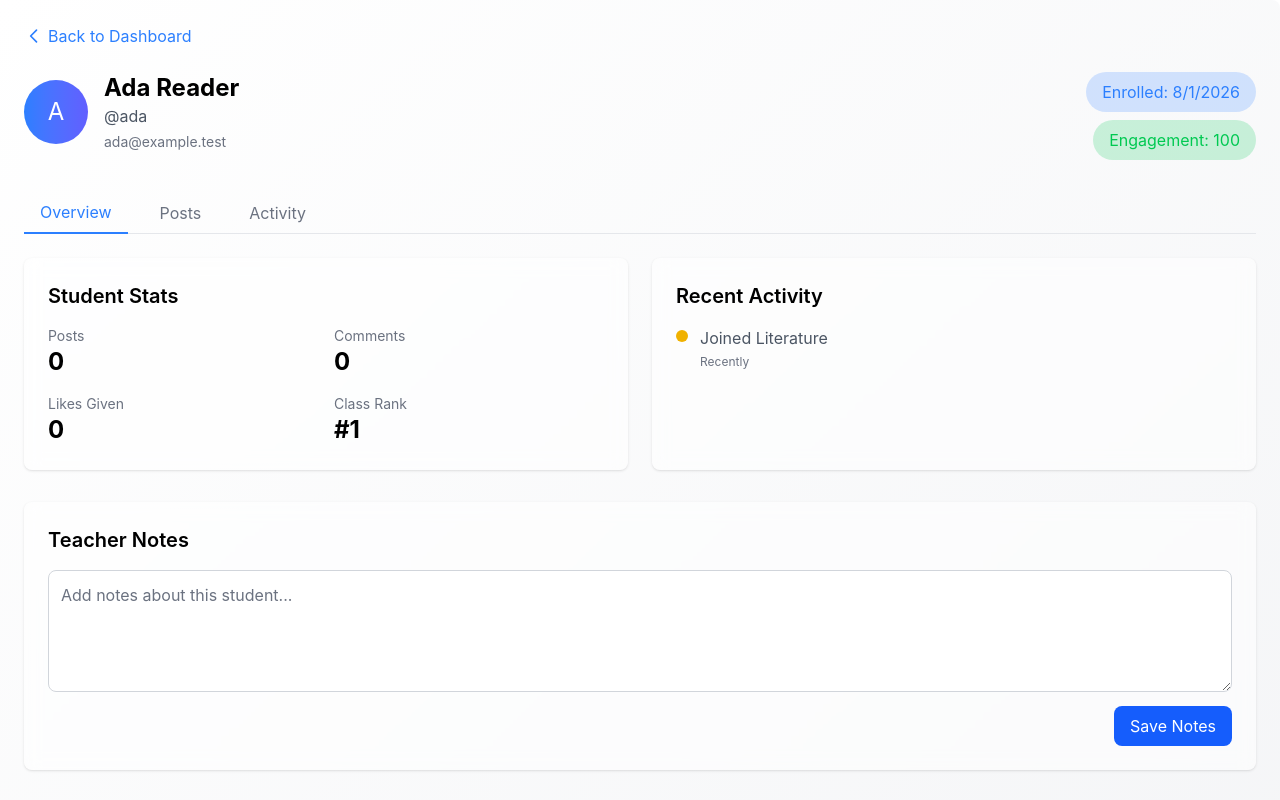
Test case: shared rich-text consumer integration › keeps StudentDetails post previews as rich DOM inside the compact clamp
This screenshot has width=1280, height=800.
Expected: the heading "Ada Reader" is shown, left=104, top=72, right=239, bottom=104
Click the button "Posts" at (180, 213), box left=144, top=192, right=217, bottom=234
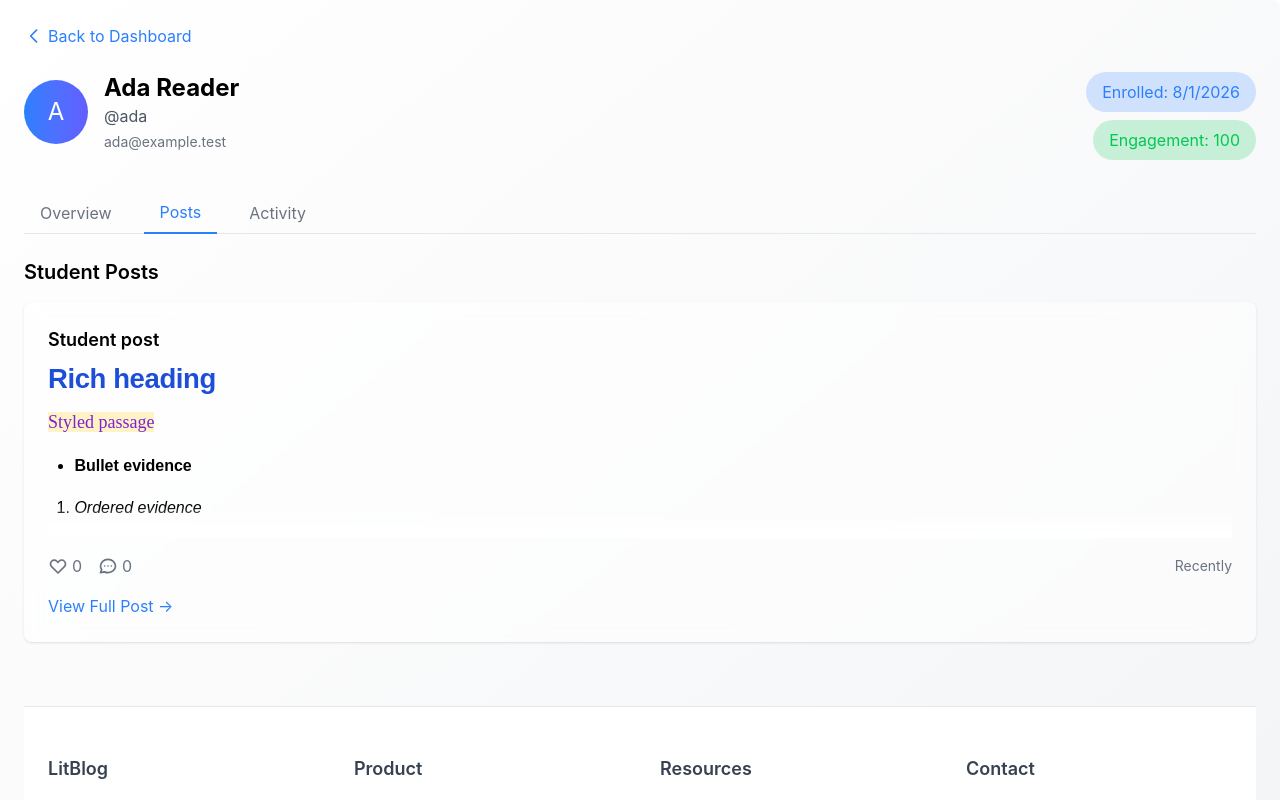
Expected: the heading "Rich heading" is shown, left=48, top=363, right=216, bottom=394
Expected: the text "Bullet evidence" is shown, left=74, top=457, right=192, bottom=474
Expected: the text "Ordered evidence" is shown, left=74, top=499, right=202, bottom=516
